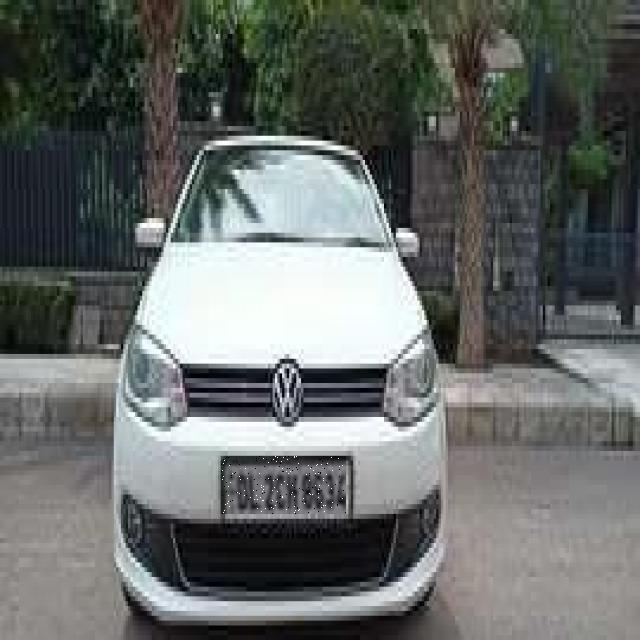Plate: (222, 457, 347, 515)
